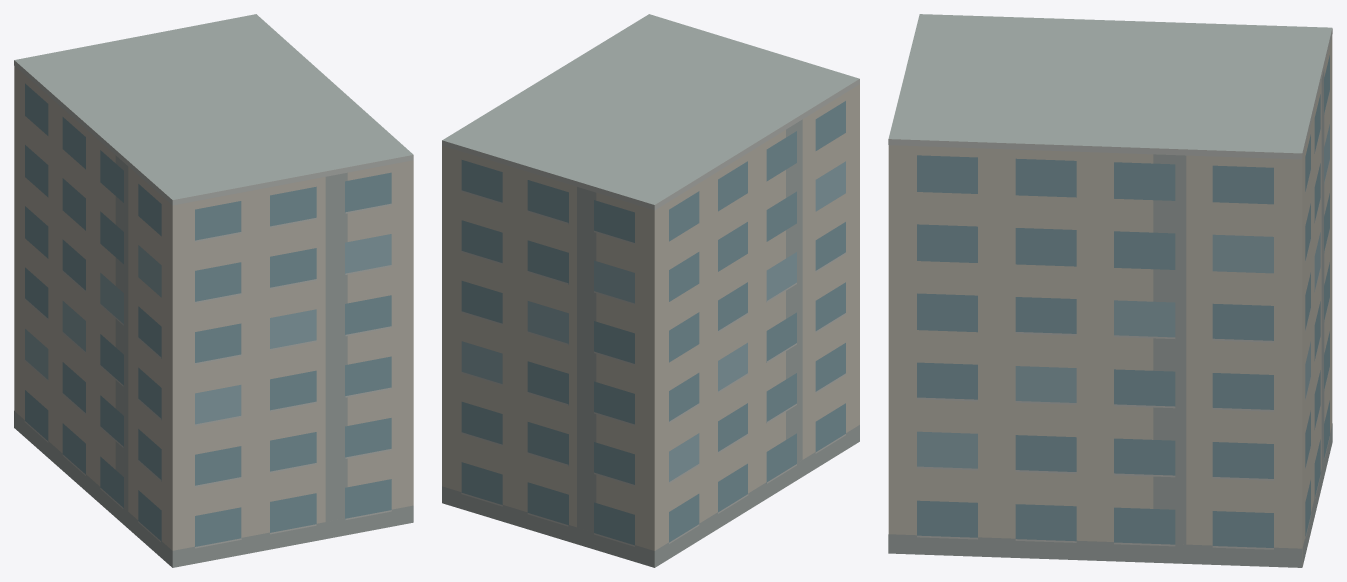
The model's file is survey-upis-32870410.glb.
3 renders of one model, left to right at view 1: azimuth 30°, elevation 25°; view 2: azimuth 150°, elevation 25°; view 3: azimuth 270°, elevation 25°, orthographic. The views are drawn at different scales.
Parts seen in each view (by area): view 1: survey-upis-32870410.tmp; view 2: survey-upis-32870410.tmp; view 3: survey-upis-32870410.tmp.
Boxes of the visible parts, x1,y1,x2,y2 form: survey-upis-32870410.tmp: (14,14,413,567); survey-upis-32870410.tmp: (442,14,859,567); survey-upis-32870410.tmp: (888,14,1332,567).
Size of the model in its own units: 11.92 by 16.5 by 16.03.
